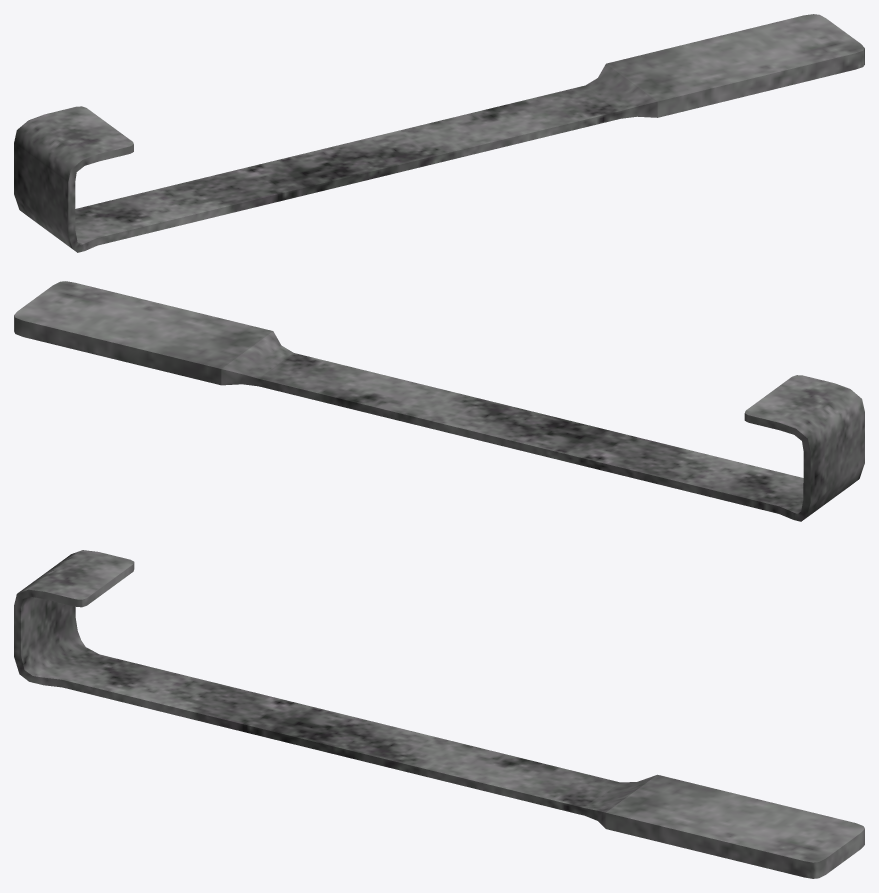
The model's file is surgery_retractor.dae.
3 renders of one model, top to bottom at view 1: azimuth 30°, elevation 25°; view 2: azimuth 150°, elevation 25°; view 3: azimuth 330°, elevation 25°, orthographic.
Parts seen in each view (by area): view 1: pCube2; view 2: pCube2; view 3: pCube2.
Boxes of the visible parts, x1,y1,x2,y2 form: pCube2: (14, 14, 864, 252); pCube2: (14, 281, 864, 521); pCube2: (14, 550, 864, 878).
Bounding box in the file's own units: 25.01 × 3 × 2.93.
